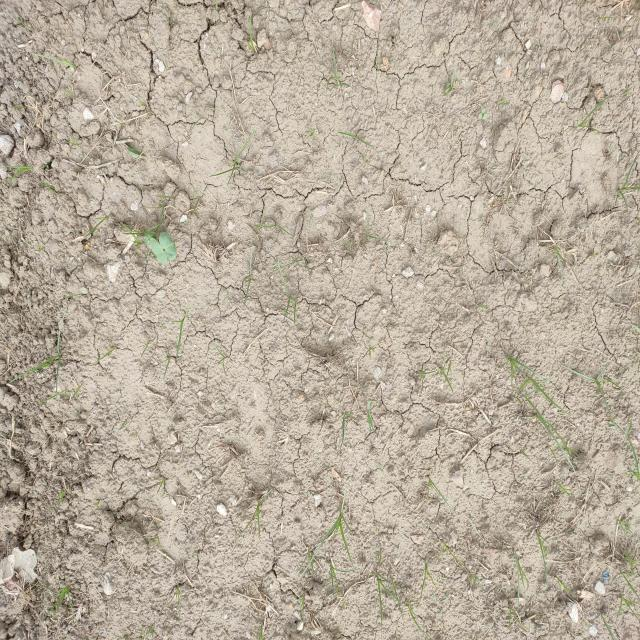seedling_s2: (159, 232, 177, 260), (152, 241, 167, 264), (143, 231, 156, 248)
